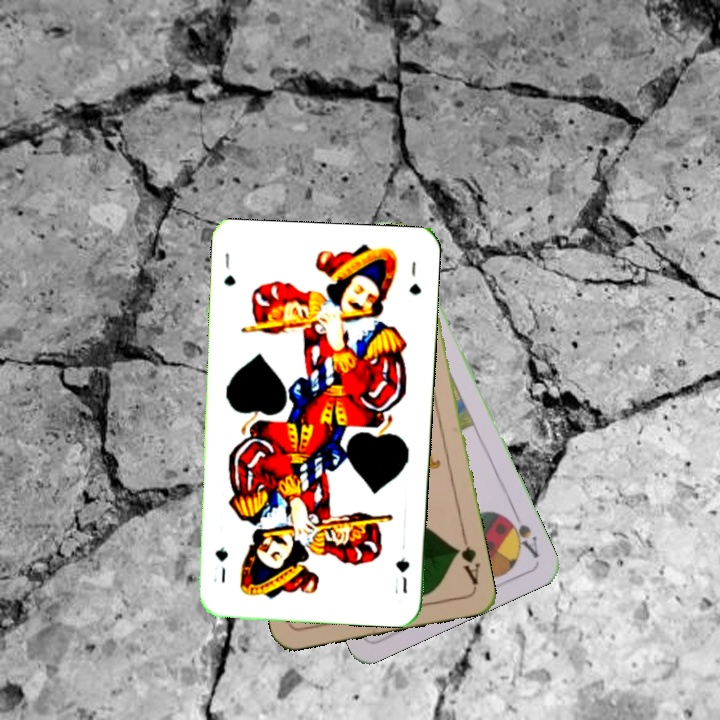GA: (451, 530, 482, 587)
GU: (392, 553, 412, 596), (220, 249, 238, 289)
SA: (500, 505, 542, 561)
